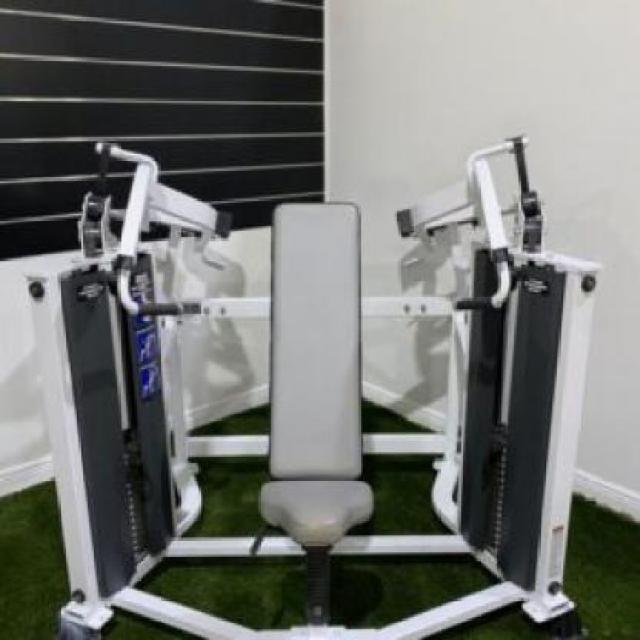shoulder press machine: (18, 81, 623, 640)
